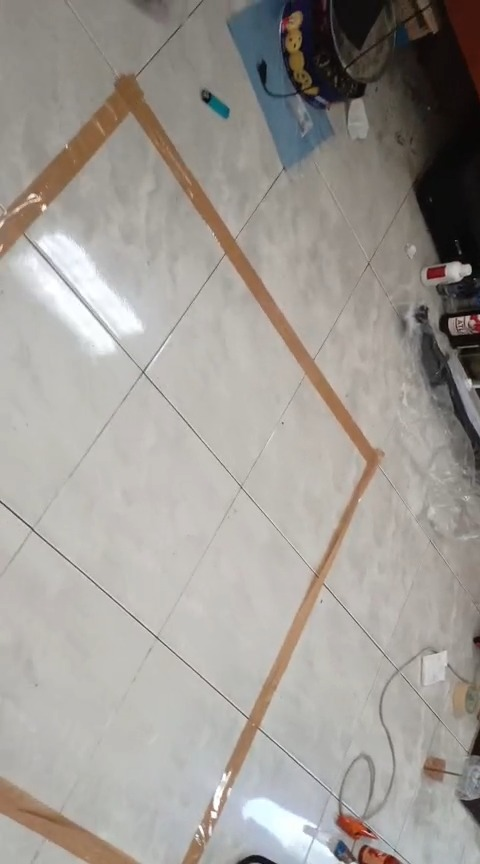floor marking: (0, 76, 381, 863), (0, 778, 137, 863)
